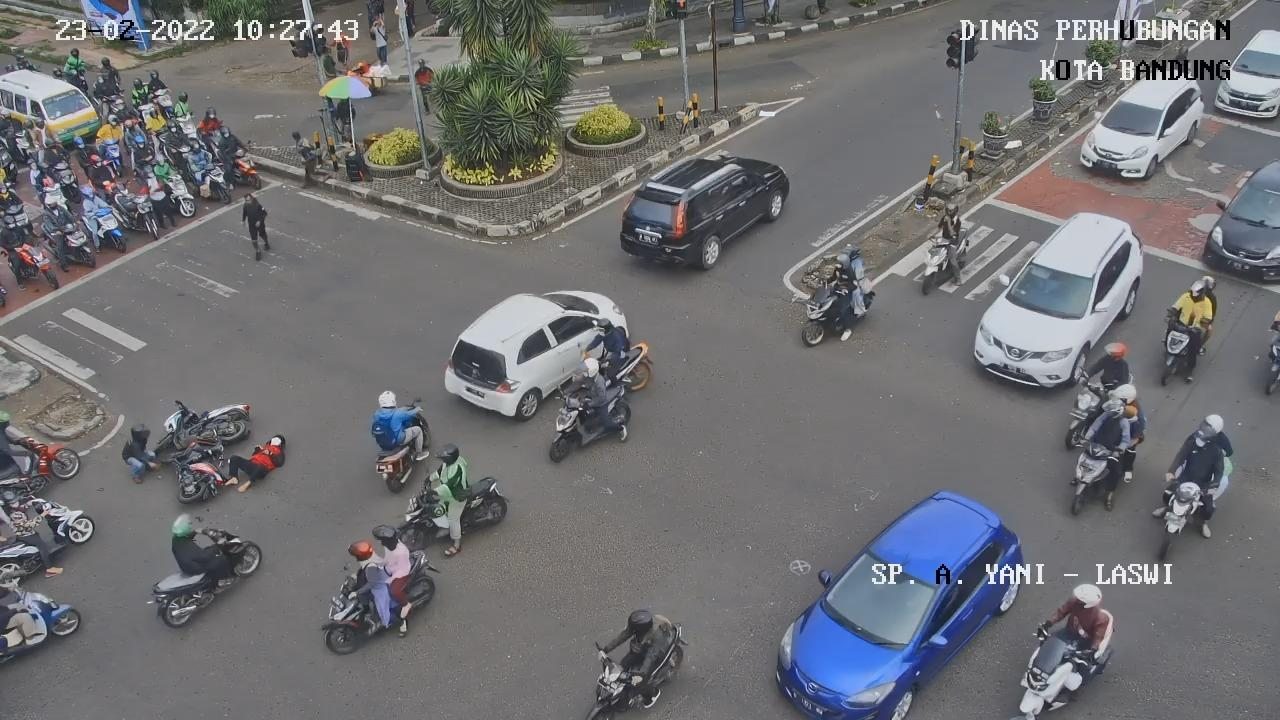accident: (225, 434, 287, 493), (121, 422, 160, 485)
